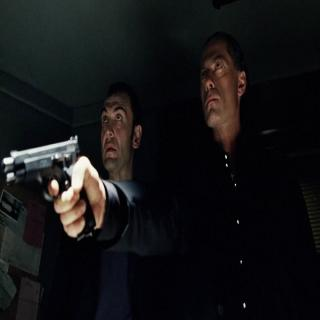gun: (0, 125, 96, 246)
